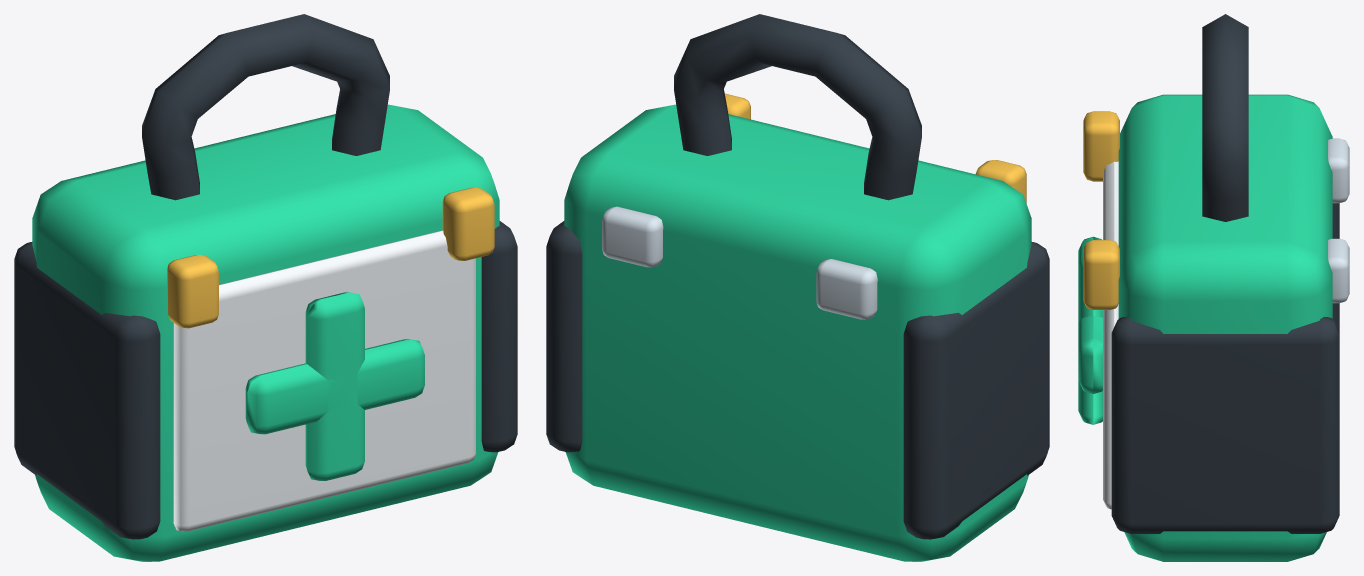
Rendered from repair.glb.
3 views of the same model, side by side, from view 1: azimuth 30°, elevation 25°; view 2: azimuth 150°, elevation 25°; view 3: azimuth 270°, elevation 25° (orthographic). The views are drawn at different scales.
Visible parts, largest first — view 1: repair__body__Mint, repair__body__Graphite, repair__body__Pearl, repair__body__Gold; view 2: repair__body__Mint, repair__body__Graphite, repair__body__Chrome, repair__body__Gold; view 3: repair__body__Graphite, repair__body__Mint, repair__body__Gold, repair__body__Pearl, repair__body__Chrome.
Part boxes in pixels (<box>): repair__body__Mint: <box>32,104,499,561</box>; repair__body__Graphite: <box>14,14,517,539</box>; repair__body__Pearl: <box>173,230,475,531</box>; repair__body__Gold: <box>167,187,494,328</box>; repair__body__Mint: <box>564,104,1031,561</box>; repair__body__Graphite: <box>546,14,1049,539</box>; repair__body__Chrome: <box>602,206,877,319</box>; repair__body__Gold: <box>724,93,1026,203</box>; repair__body__Graphite: <box>1111,14,1339,533</box>; repair__body__Mint: <box>1078,94,1332,561</box>; repair__body__Gold: <box>1083,111,1119,309</box>; repair__body__Pearl: <box>1103,161,1118,509</box>; repair__body__Chrome: <box>1328,138,1349,303</box>.
Bounding box in the file's own units: 1.57 × 1.79 × 0.9625.
